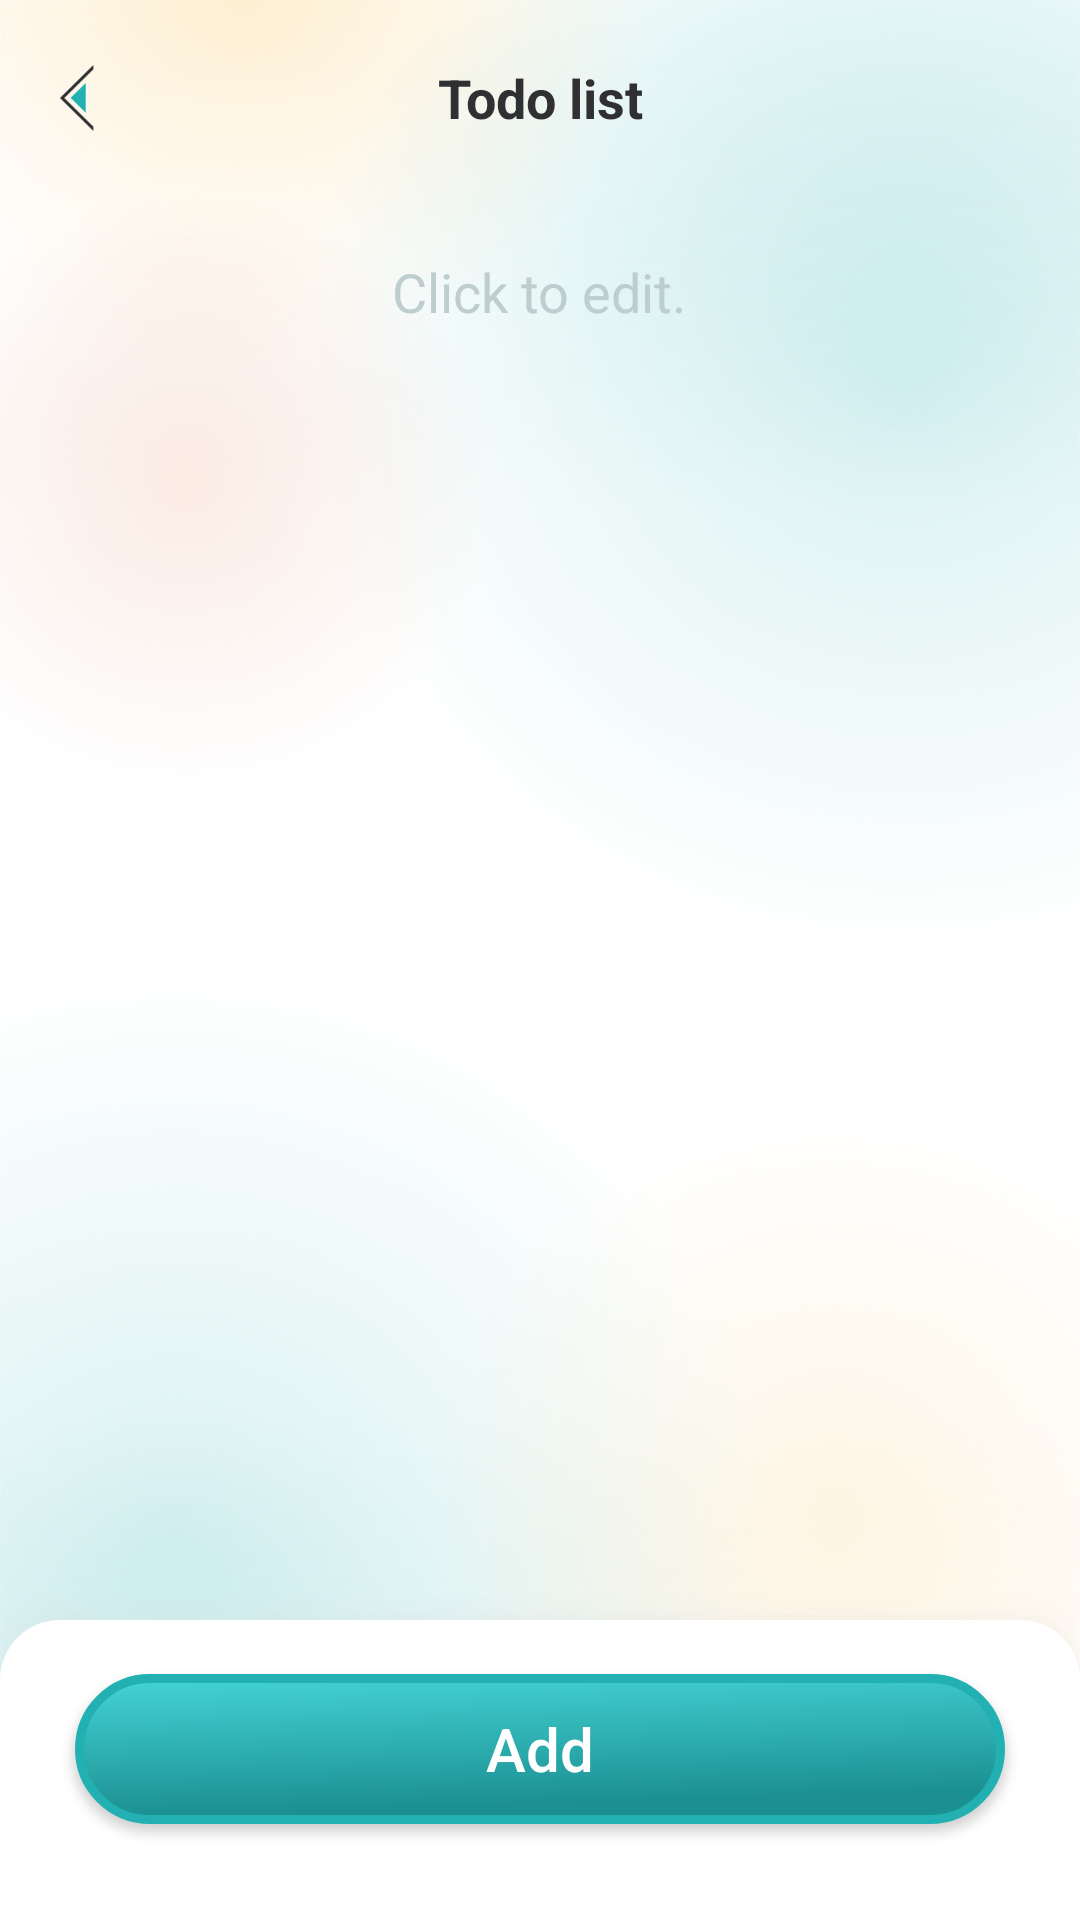

Where to tap for icons on this 1080px×1920px app screen, as (x=x, y=y):
angle back: (x=77, y=98)
